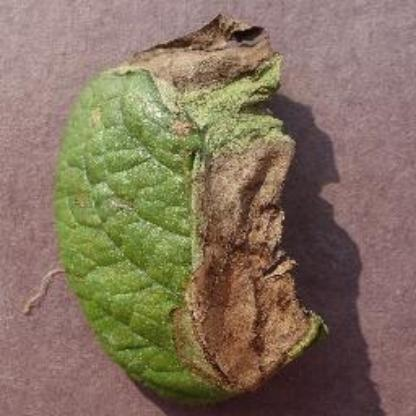Late-Blight: (38, 11, 346, 402)
